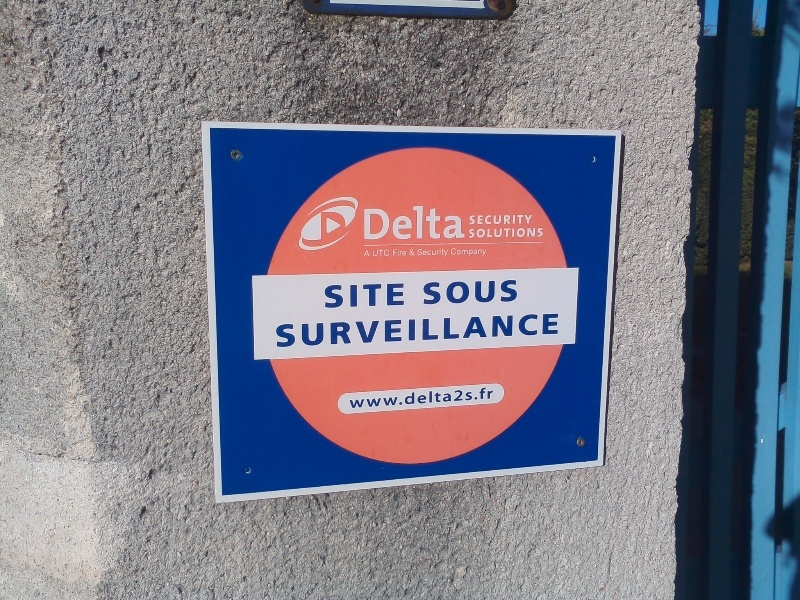text: (369, 204, 384, 240), (385, 204, 400, 240), (401, 204, 416, 240), (417, 204, 432, 240), (433, 204, 448, 240), (449, 204, 464, 240), (289, 313, 304, 349), (305, 313, 320, 349), (321, 313, 336, 349), (337, 313, 352, 349), (353, 313, 368, 349), (369, 313, 384, 349), (385, 313, 400, 349), (401, 313, 416, 349), (417, 313, 432, 349), (433, 313, 448, 349), (449, 313, 464, 349), (465, 313, 480, 349), (481, 313, 496, 349), (497, 313, 512, 349), (513, 313, 528, 349), (529, 313, 544, 349), (545, 313, 559, 349), (276, 313, 288, 349), (337, 282, 352, 309), (353, 282, 368, 309), (369, 282, 384, 309), (385, 282, 400, 309), (433, 279, 448, 305), (449, 279, 464, 305), (465, 279, 480, 305), (481, 279, 496, 305), (497, 279, 512, 305), (353, 386, 368, 409), (369, 386, 384, 409), (385, 386, 400, 409), (401, 386, 416, 409), (417, 386, 432, 409), (433, 386, 448, 409), (449, 386, 464, 409), (465, 386, 480, 409), (481, 386, 494, 409), (325, 282, 336, 309), (423, 279, 432, 305), (481, 228, 496, 239), (497, 228, 512, 239), (513, 228, 528, 239), (433, 248, 449, 258), (529, 228, 543, 239), (481, 215, 496, 225), (497, 215, 512, 225), (513, 215, 528, 225), (417, 248, 432, 258), (364, 204, 368, 240), (469, 228, 480, 239), (465, 248, 480, 256), (451, 248, 464, 256), (513, 279, 517, 305), (470, 215, 480, 225), (372, 250, 384, 257), (401, 282, 404, 309), (392, 249, 400, 256), (409, 249, 416, 256), (481, 248, 487, 256), (350, 386, 352, 409), (401, 249, 407, 256), (529, 215, 533, 225), (465, 204, 466, 240), (385, 250, 390, 257), (364, 250, 368, 258), (369, 250, 370, 258)
